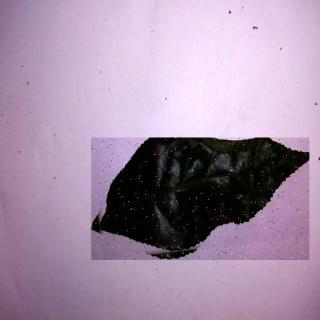Bird Eye Spot: (93, 139, 311, 261)
